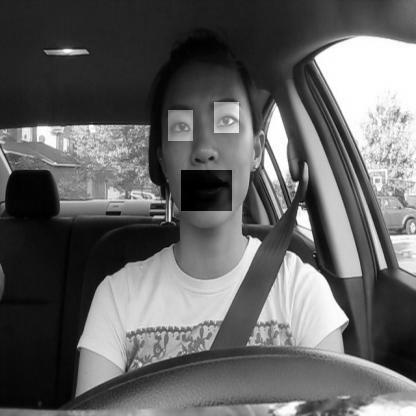seatbelt: (133, 28, 289, 346)
